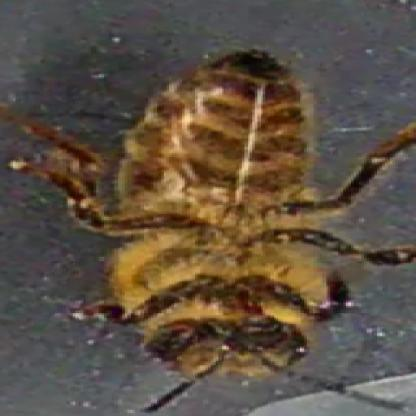bee: (101, 51, 348, 383)
